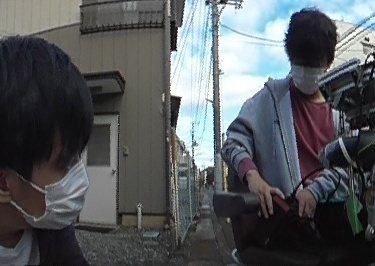person: (240, 7, 355, 257)
